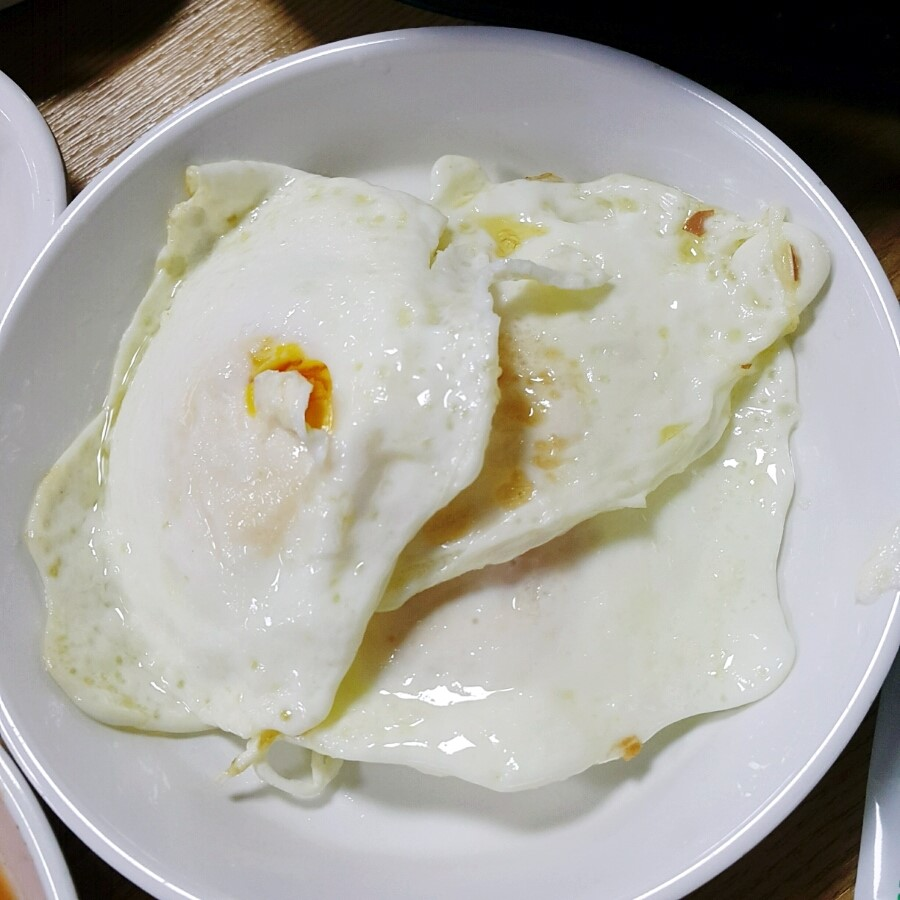fried egg: (173, 177, 427, 673)
